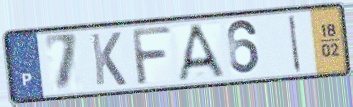6: (225, 18, 263, 78)
7: (41, 34, 80, 95)
A: (176, 22, 229, 84)
F: (129, 25, 174, 87)
I: (287, 13, 303, 75)
K: (88, 31, 129, 88)
